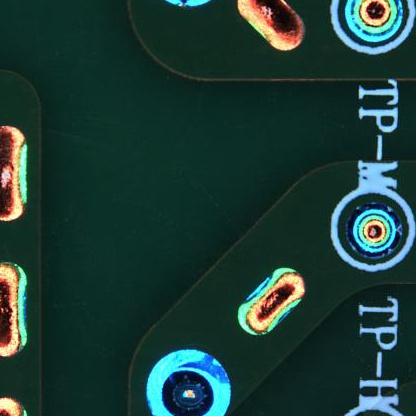spot: (336, 188, 402, 265)
